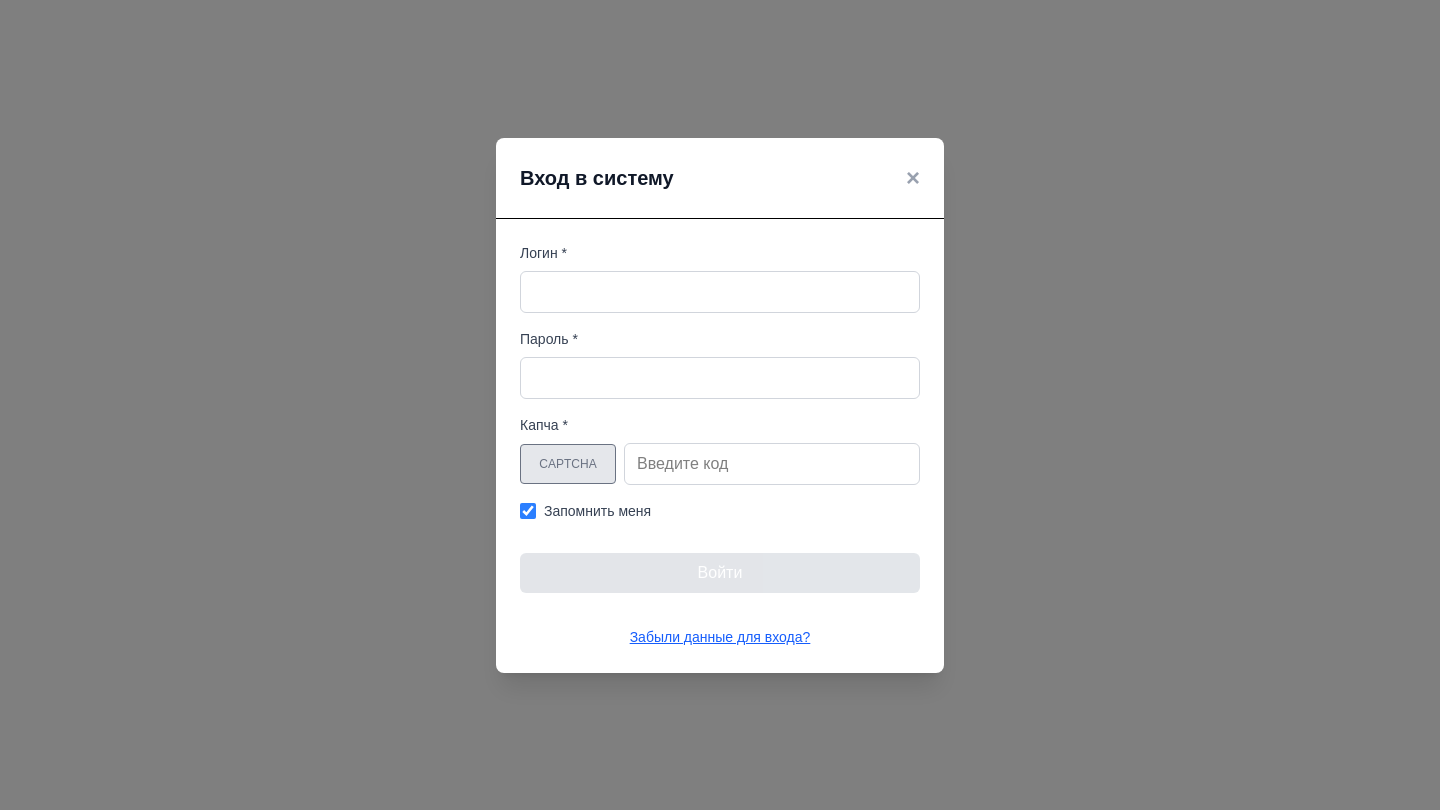
Test case: LoginModal › при ошибке входа показывается сообщение
Type "user" into the field labelled "Логин *". click: (720, 292)
box: [520, 270, 920, 312]
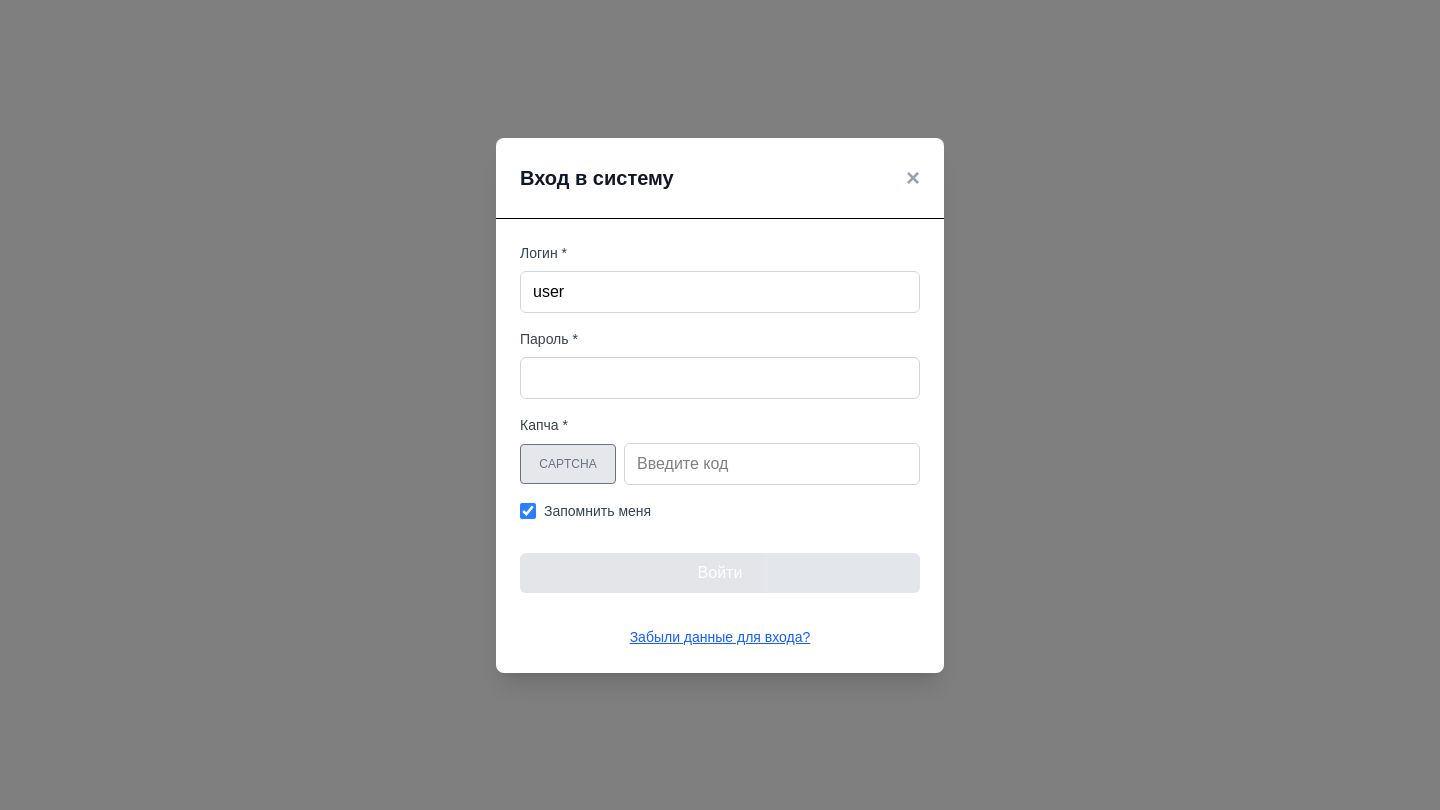
Type "secret" into the password field labelled "Пароль *". click: (720, 378)
box: [520, 356, 920, 398]
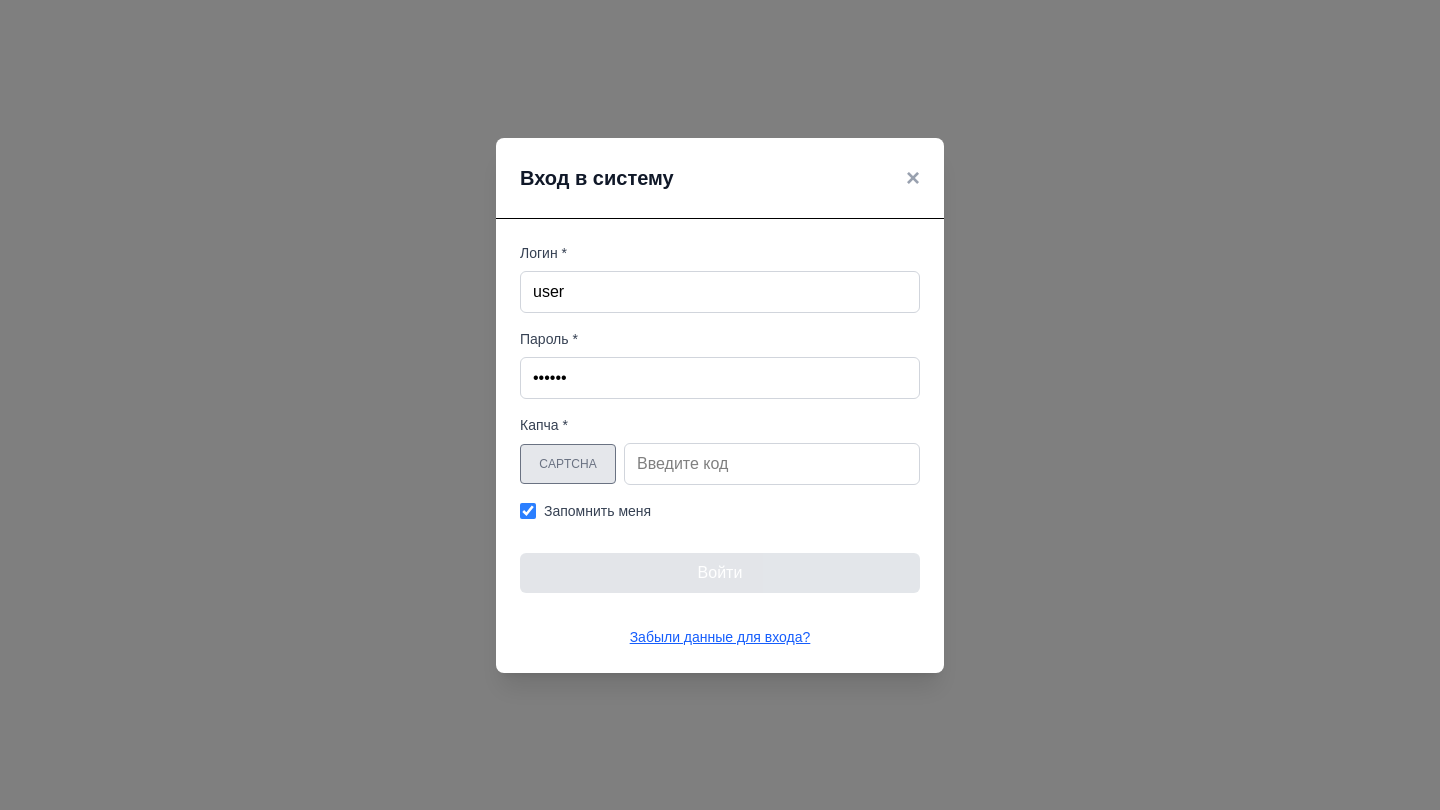
Type "1234" into the field labelled "Капча *". click: (772, 464)
box: [624, 442, 920, 484]
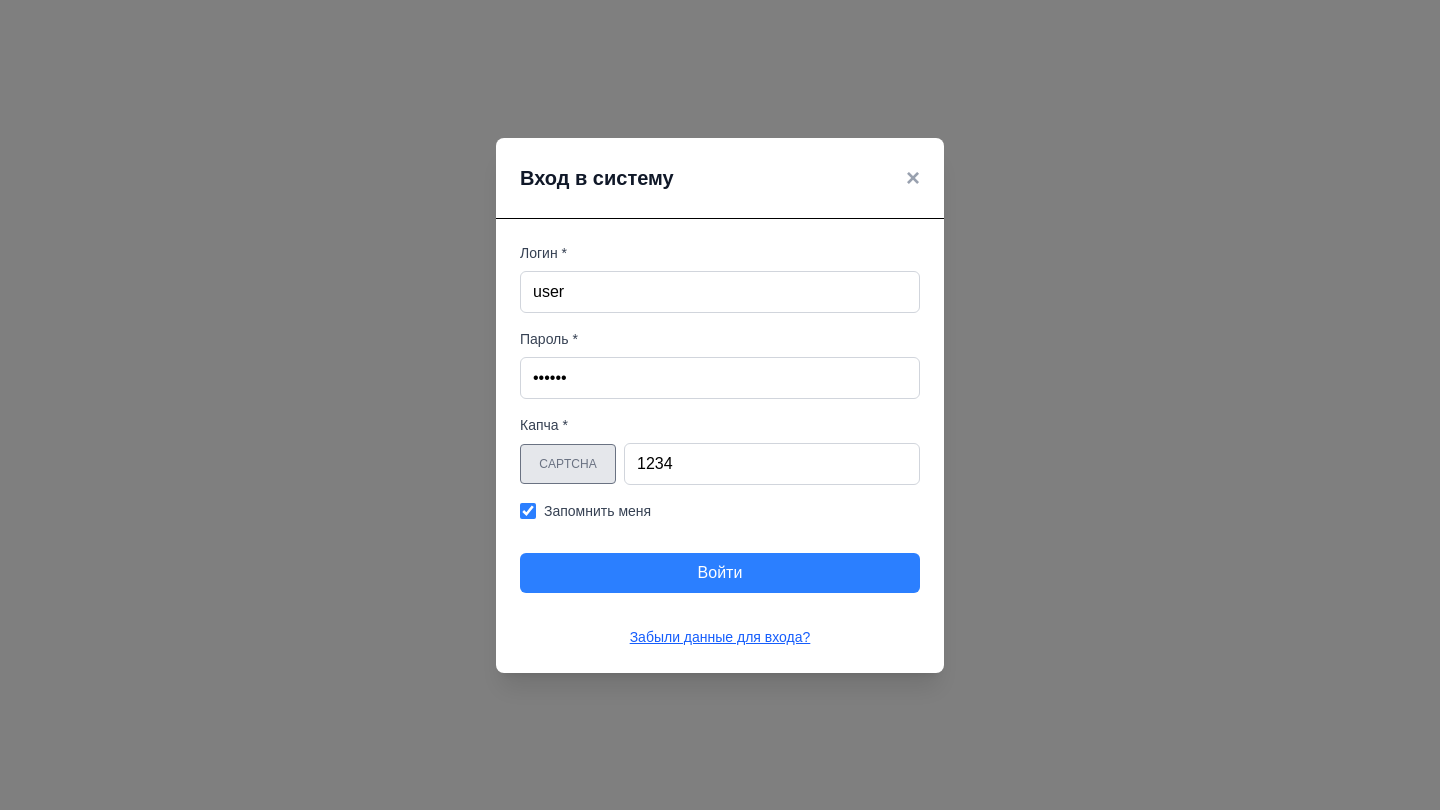
Click the button "Войти". click: (720, 572)
box: [520, 552, 920, 592]
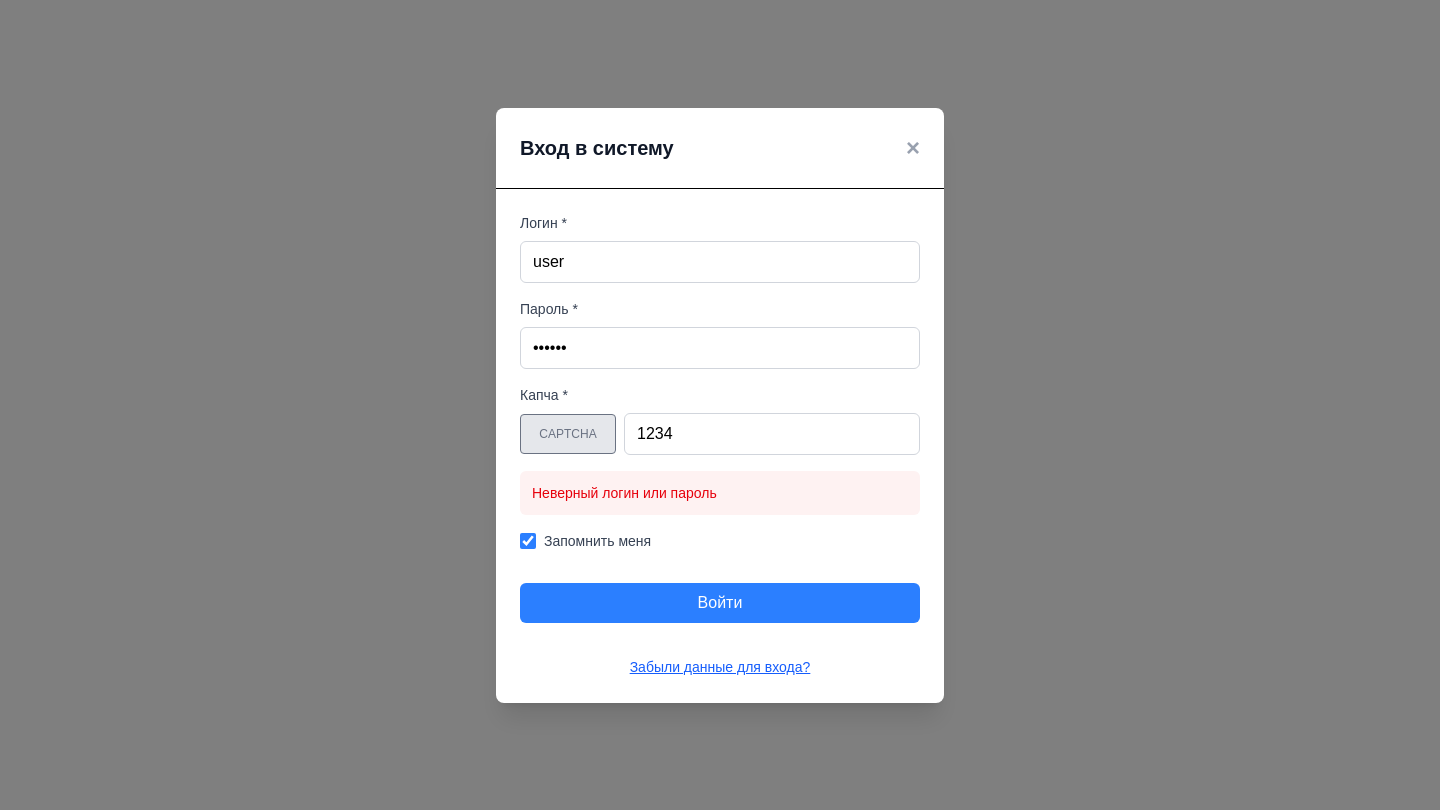
Result: the text "Неверный логин или пароль" is shown at [520, 470, 920, 514]
